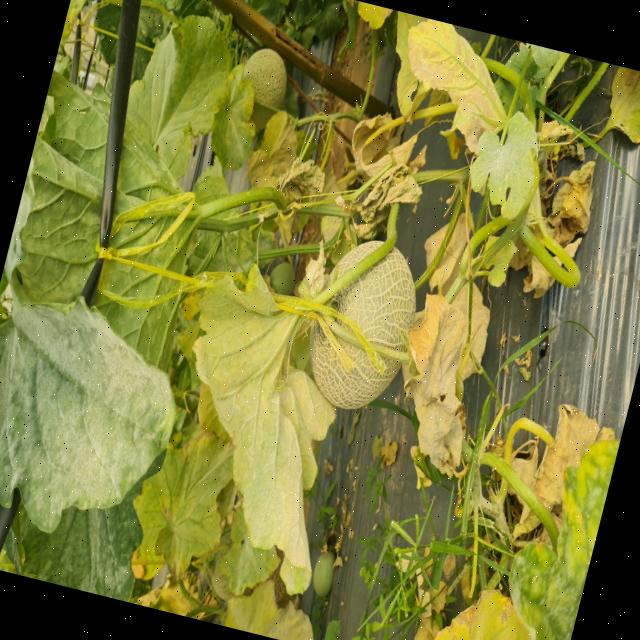melon: (331, 247, 416, 350), (310, 321, 400, 408), (337, 238, 382, 277)
